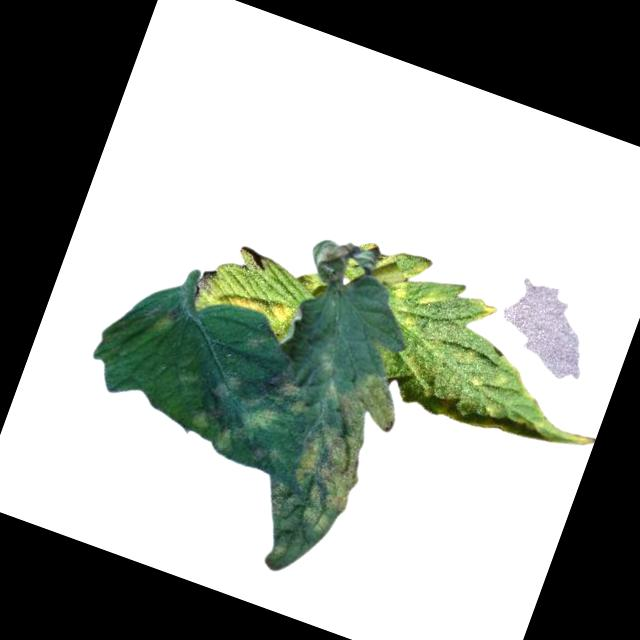Leaf_Mold: (346, 247, 632, 468), (243, 350, 408, 593), (180, 333, 320, 477), (202, 276, 296, 339)
